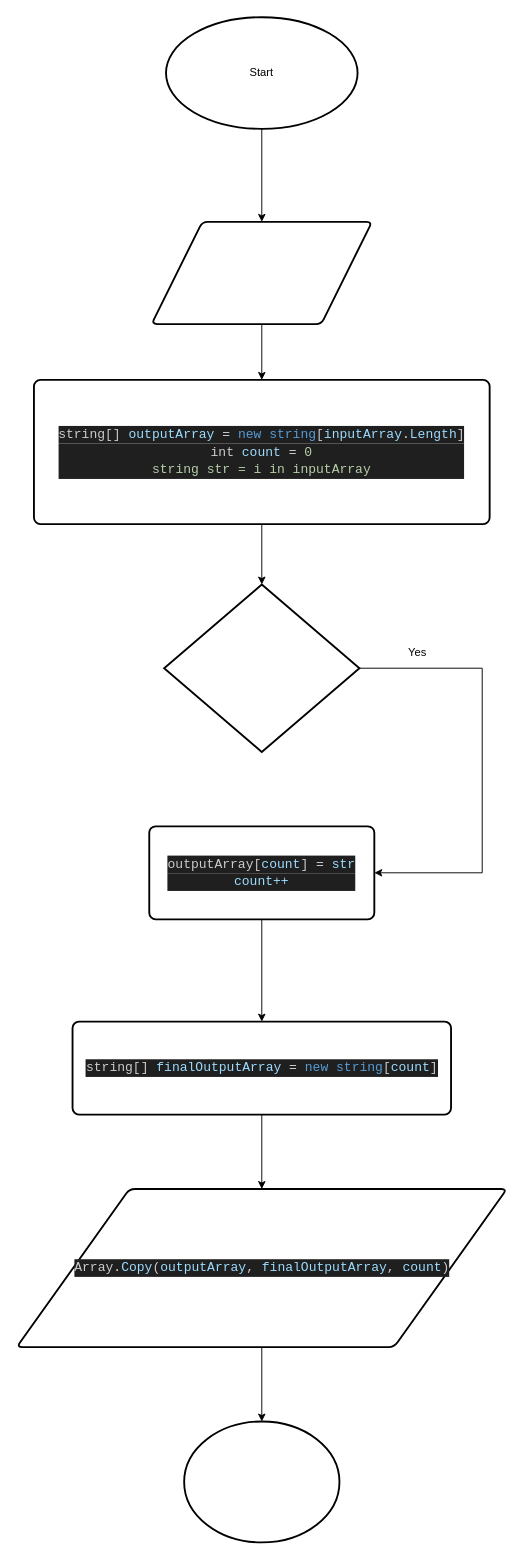
Image size: 524x1559. Some labels were removed from this diagram. Here are the shapes that lost their labels. From the top down, the centre of each, then its label:
At (261,272): "string[] inputArray".
At (261,667): "str . Length <= 3?".
At (261,1481): "End".
